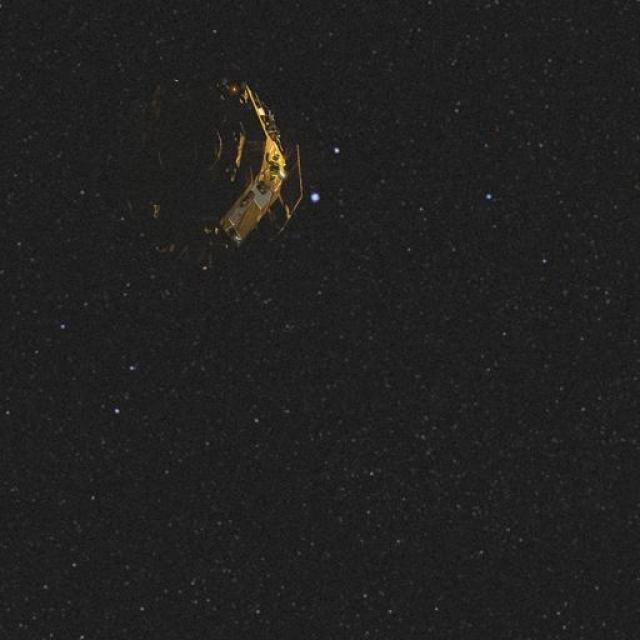lisa_pathfinder: (83, 61, 323, 266)
